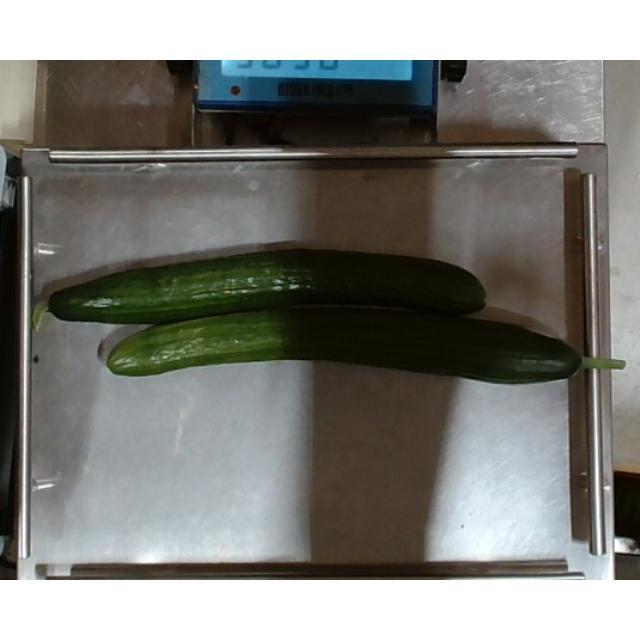cucumber: (30, 210, 488, 326), (104, 314, 626, 388)
